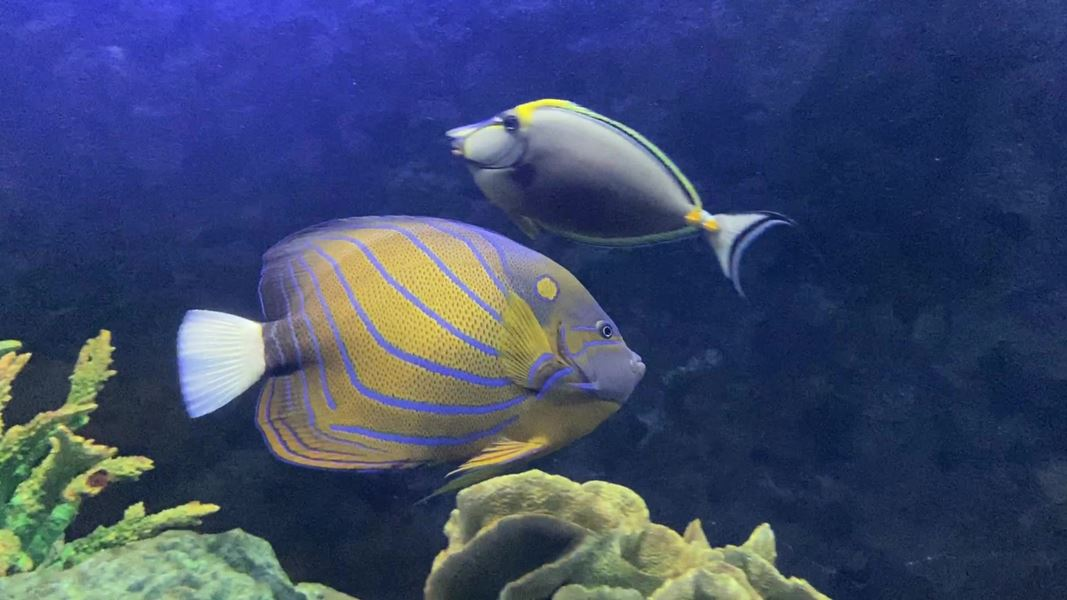Blue ring angelfish: (158, 199, 649, 528)
